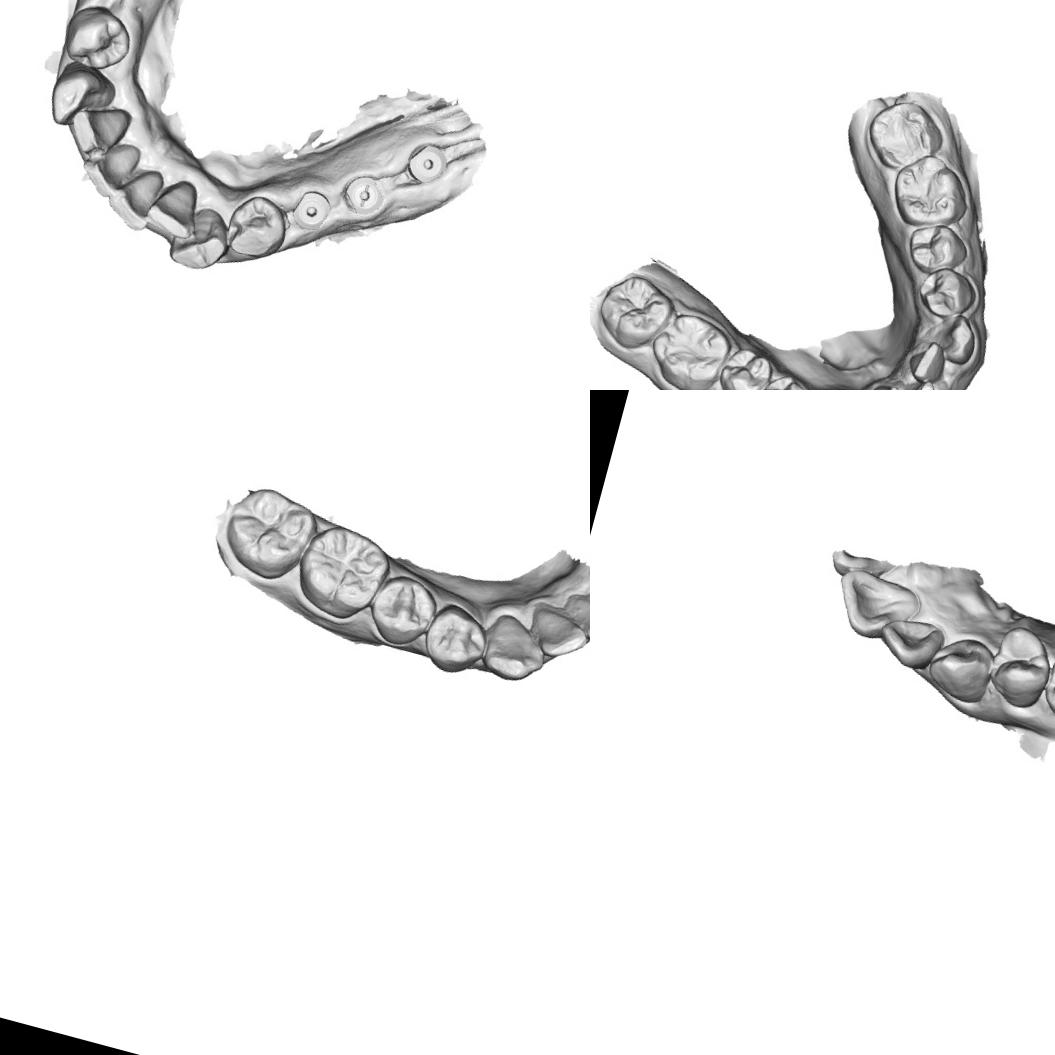canine: (918, 628, 1000, 709), (474, 606, 554, 689), (165, 204, 235, 278), (46, 65, 109, 133), (936, 310, 982, 368)
implant: (402, 137, 452, 189), (288, 185, 336, 232)
implant_minus: (339, 174, 387, 218)
incisor: (825, 562, 926, 650), (874, 608, 948, 676), (56, 98, 126, 169), (103, 166, 166, 233), (147, 174, 206, 241), (526, 604, 590, 665), (78, 138, 137, 201), (554, 588, 590, 647), (910, 336, 950, 386), (897, 375, 940, 390), (863, 379, 906, 390)
molar: (288, 516, 398, 628), (214, 477, 321, 587), (883, 146, 978, 240), (590, 265, 681, 360), (858, 91, 951, 181), (639, 304, 736, 390)
premolar: (982, 620, 1055, 711), (361, 568, 440, 652), (58, 0, 138, 75), (418, 600, 490, 681), (220, 189, 294, 264), (900, 215, 973, 283), (912, 260, 982, 325), (711, 341, 774, 390), (1037, 644, 1055, 729), (750, 367, 816, 390)
